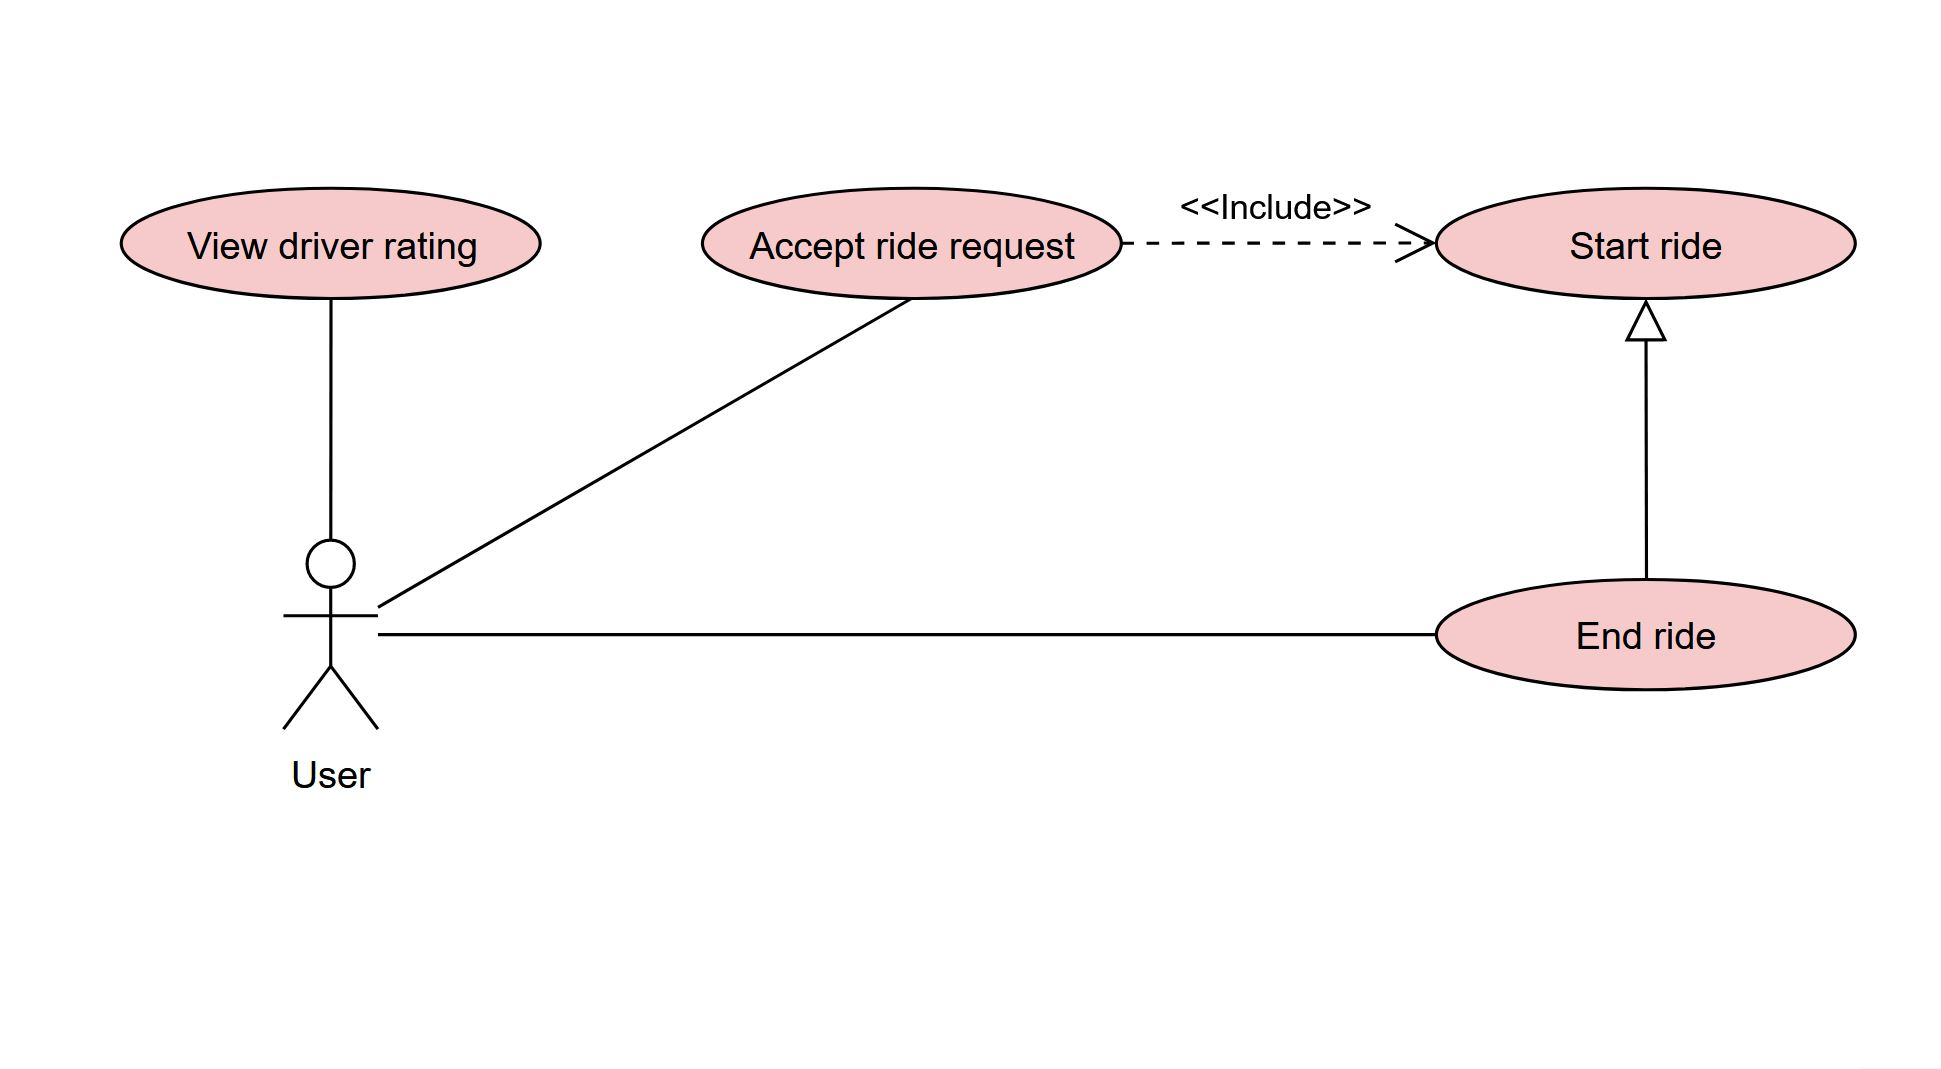actor: (283, 534, 384, 739)
association: (379, 299, 921, 611), (376, 608, 1430, 656), (1122, 217, 1430, 271), (312, 301, 359, 534)
generalization: (1620, 301, 1673, 577)
text: (182, 217, 491, 275), (749, 222, 1083, 269), (1167, 175, 1374, 226), (1555, 221, 1749, 271), (1569, 613, 1730, 660), (282, 753, 374, 796)
use_case: (1433, 184, 1859, 305), (699, 184, 1125, 304), (118, 184, 546, 303), (1430, 574, 1857, 691)
